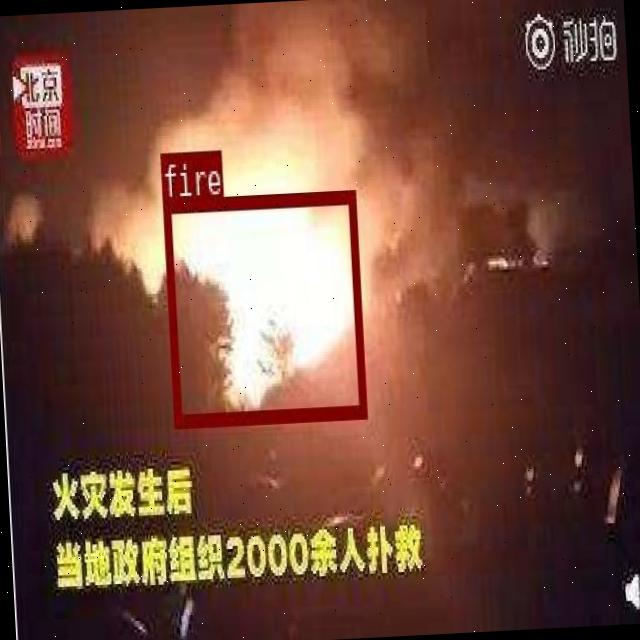fire: (162, 188, 366, 426)
